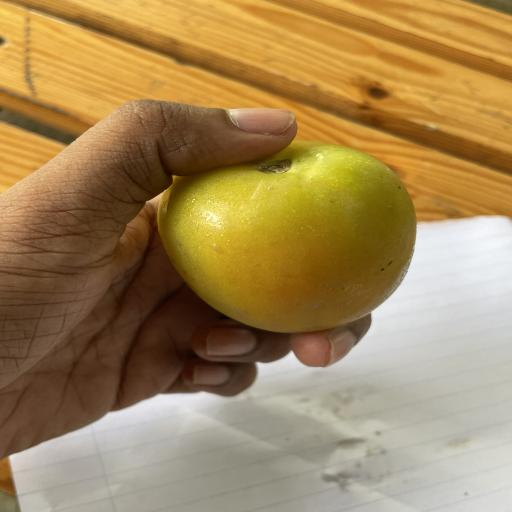unripe: (158, 142, 416, 332)
